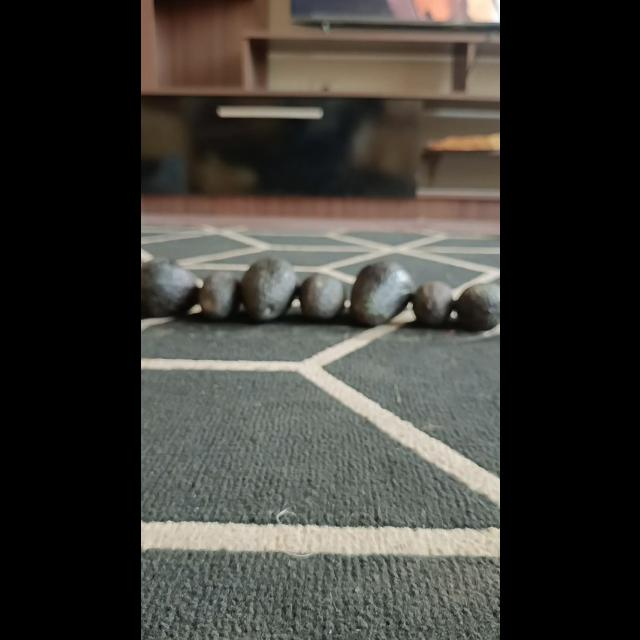Primera: (350, 260, 414, 326), (239, 256, 295, 322), (140, 259, 198, 317)
Segunda: (454, 282, 498, 332), (299, 274, 345, 320), (199, 271, 241, 319)
Tercera: (412, 280, 454, 326)
